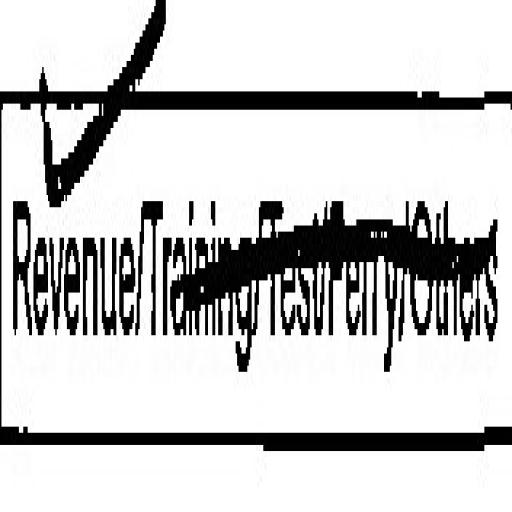check: (0, 0, 141, 488)
